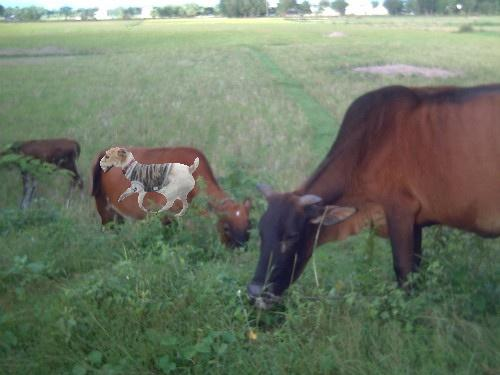tampered: (101, 148, 199, 218)
